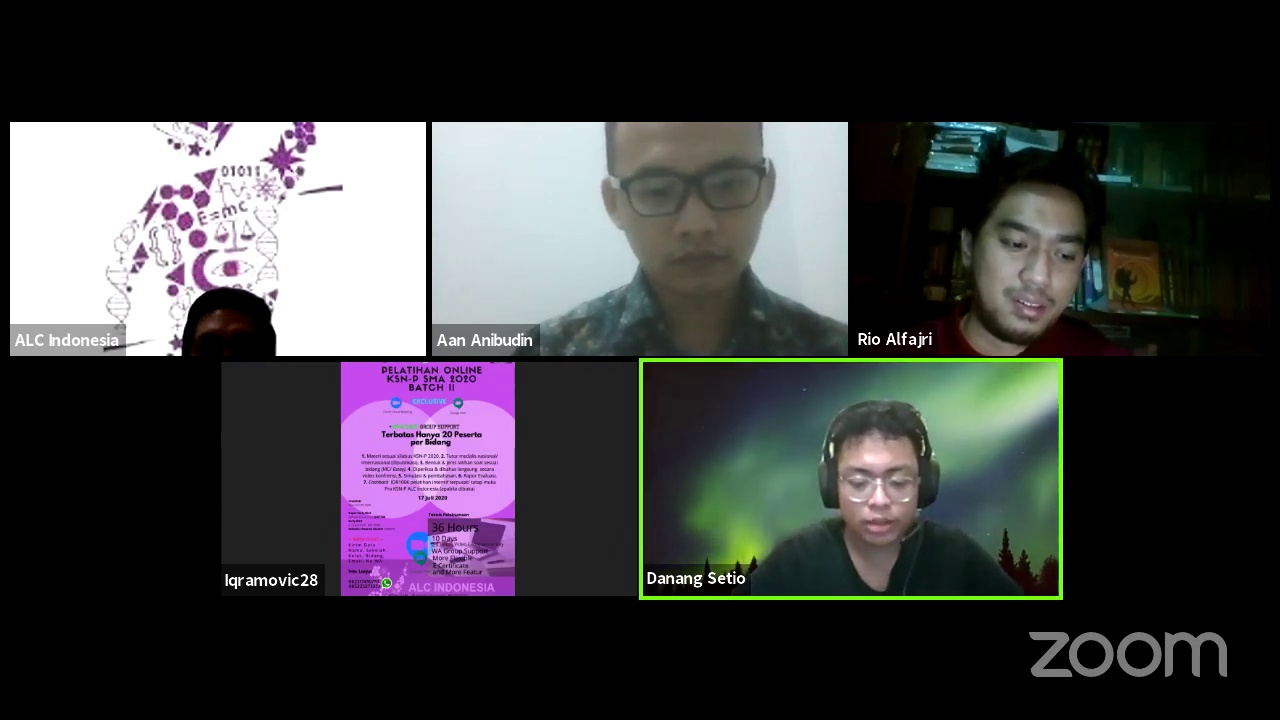Distracted: (951, 162, 1097, 342), (804, 410, 942, 548)
Not Distracted: (574, 125, 780, 283)
